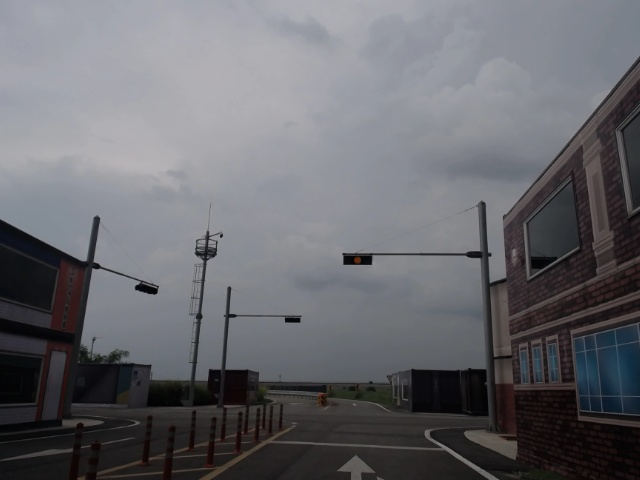orange_3: (343, 255, 372, 265)
